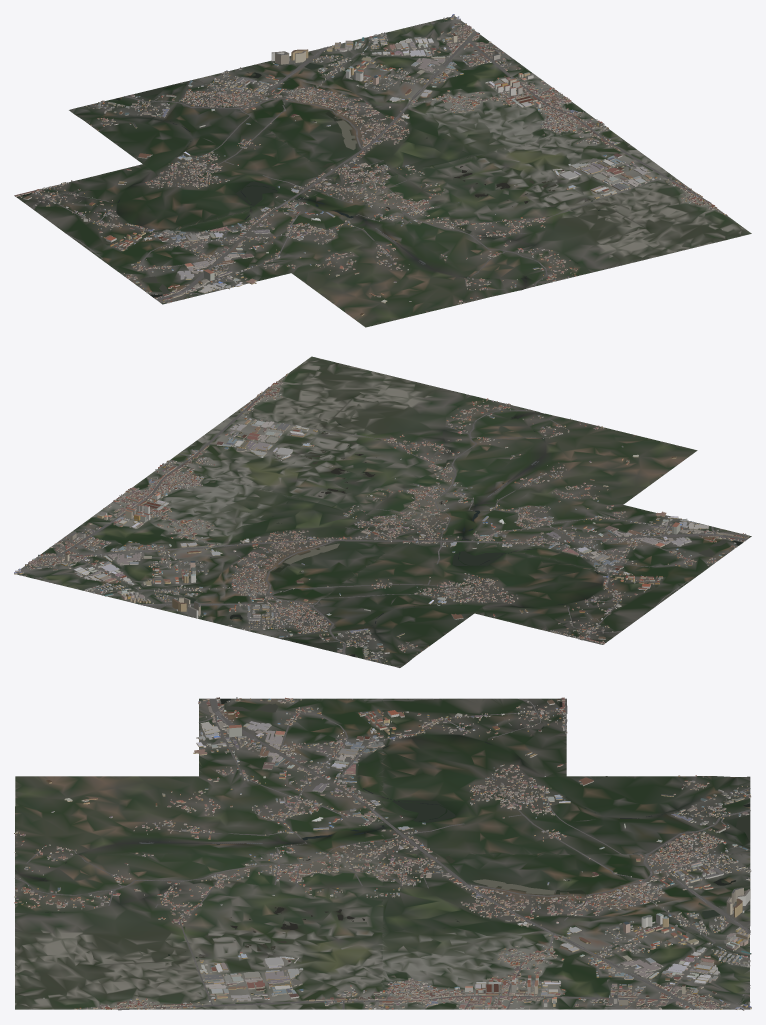
3 renders of one model, top to bottom at view 1: azimuth 30°, elevation 25°; view 2: azimuth 150°, elevation 25°; view 3: azimuth 270°, elevation 25°, orthographic. The views are drawn at different scales.
Parts seen in each view (by area): view 1: ground, buildings, roads, water; view 2: ground, buildings, roads, water; view 3: ground, buildings, roads, water.
Boxes of the visible parts, x1=… form: ground: x1=16, y1=16, x2=751, y2=327; buildings: x1=14, y1=14, x2=727, y2=316; roads: x1=14, y1=21, x2=710, y2=301; water: x1=17, y1=63, x2=600, y2=297; ground: x1=16, y1=356, x2=751, y2=667; buildings: x1=14, y1=369, x2=749, y2=663; roads: x1=23, y1=386, x2=746, y2=663; water: x1=185, y1=405, x2=742, y2=656; ground: x1=15, y1=698, x2=750, y2=1009; buildings: x1=14, y1=697, x2=751, y2=1010; roads: x1=15, y1=698, x2=750, y2=1010; water: x1=30, y1=698, x2=750, y2=957.
Bounding box in the file's own units: 5638 × 106 × 5629.
